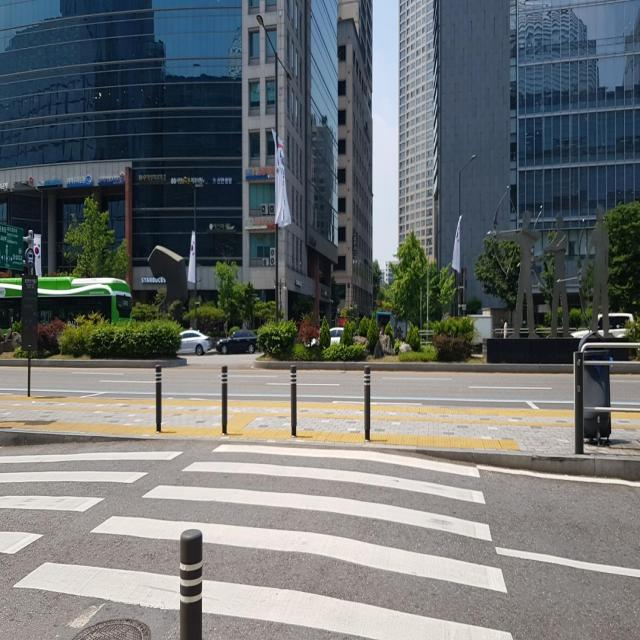횡단보도: (0, 438, 515, 640)
